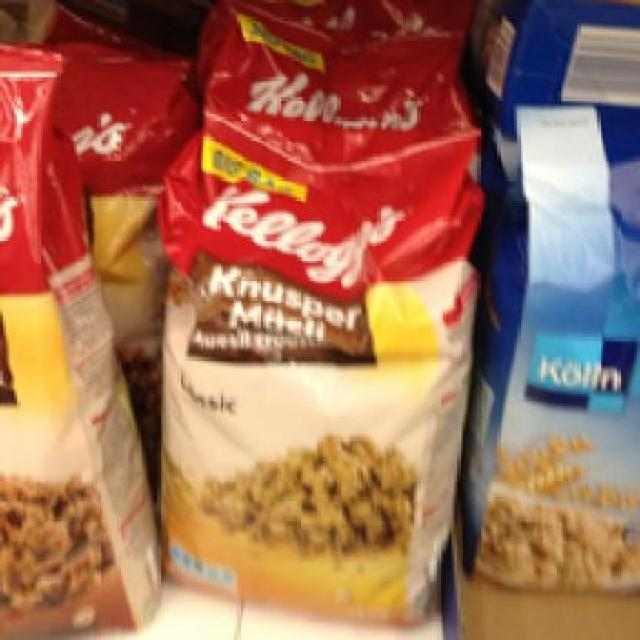Cereal: (151, 167, 480, 624), (472, 114, 638, 597)
